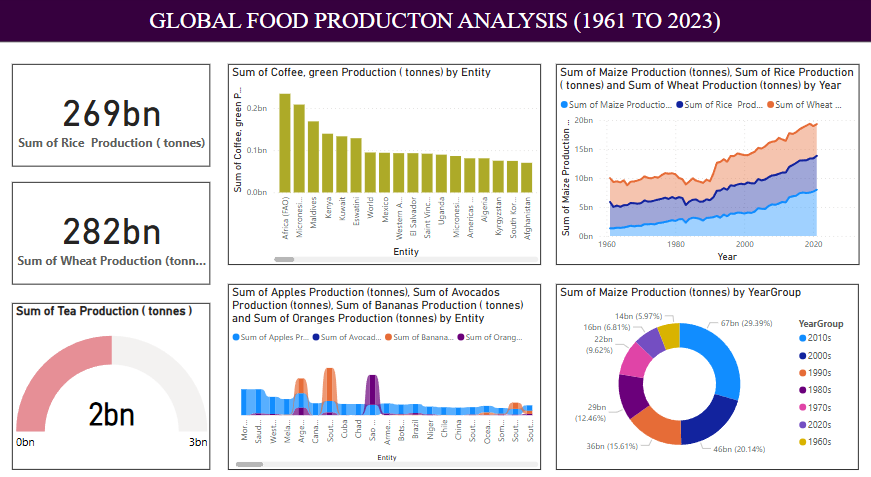

Layout of this report page (visuals, bound fields, positions):
{"tool":"powerbi","page":{"name":"Page 1","canvas":[1280,720],"ordinal":0},"visuals":[{"type":"shape","box":[0,0,1280,66],"z":0},{"type":"card","fields":{"Values":["Sum(world food production.Rice  Production ( tonnes))"]},"box":[22,98,290,150],"z":1000},{"type":"card","fields":{"Values":["Sum(world food production.Wheat Production (tonnes))"]},"box":[22,270,290,150],"z":2000},{"type":"gauge","fields":{"Y":["Sum(world food production.Tea  Production ( tonnes ))"]},"box":[22,448,290,244],"z":3000},{"type":"clusteredColumnChart","fields":{"Y":["Sum(world food production.Coffee, green Production ( tonnes))"],"Category":["world food production.Entity"]},"box":[338,98,458,294],"z":4000},{"type":"stackedAreaChart","fields":{"Category":["world food production.Year"],"Y":["Sum(world food production.Maize Production (tonnes))","Sum(world food production.Rice  Production ( tonnes))","Sum(world food production.Wheat Production (tonnes))"]},"box":[818,98,444,294],"z":5000},{"type":"ribbonChart","fields":{"Category":["world food production.Entity"],"Y":["Sum(world food production.Apples Production (tonnes))","Sum(world food production.Avocados Production (tonnes))","Sum(world food production.Bananas  Production ( tonnes))","Sum(world food production.Oranges  Production (tonnes))"]},"box":[338,420,458,272],"z":5001},{"type":"donutChart","fields":{"Category":["world food production.YearGroup"],"Y":["Sum(world food production.Maize Production (tonnes))"]},"box":[818.3,420,443.3,271.7],"z":5002}]}

Visuals, with their boxes in screenshot pixels (x1, y1, x2, y2), scaled from the page's 1280x720 canvas onto the 871x477 screenshot:
shape: bbox=(0, 0, 870, 44)
card - Sum(world food production.Rice  Production ( tonnes)): bbox=(15, 65, 212, 164)
card - Sum(world food production.Wheat Production (tonnes)): bbox=(15, 179, 212, 278)
gauge - Sum(world food production.Tea  Production ( tonnes )): bbox=(15, 297, 212, 458)
clusteredColumnChart - Sum(world food production.Coffee, green Production ( tonnes)) x world food production.Entity: bbox=(230, 65, 542, 260)
stackedAreaChart - world food production.Year x Sum(world food production.Maize Production (tonnes)): bbox=(557, 65, 859, 260)
ribbonChart - world food production.Entity x Sum(world food production.Apples Production (tonnes)): bbox=(230, 278, 542, 458)
donutChart - world food production.YearGroup x Sum(world food production.Maize Production (tonnes)): bbox=(557, 278, 858, 458)
